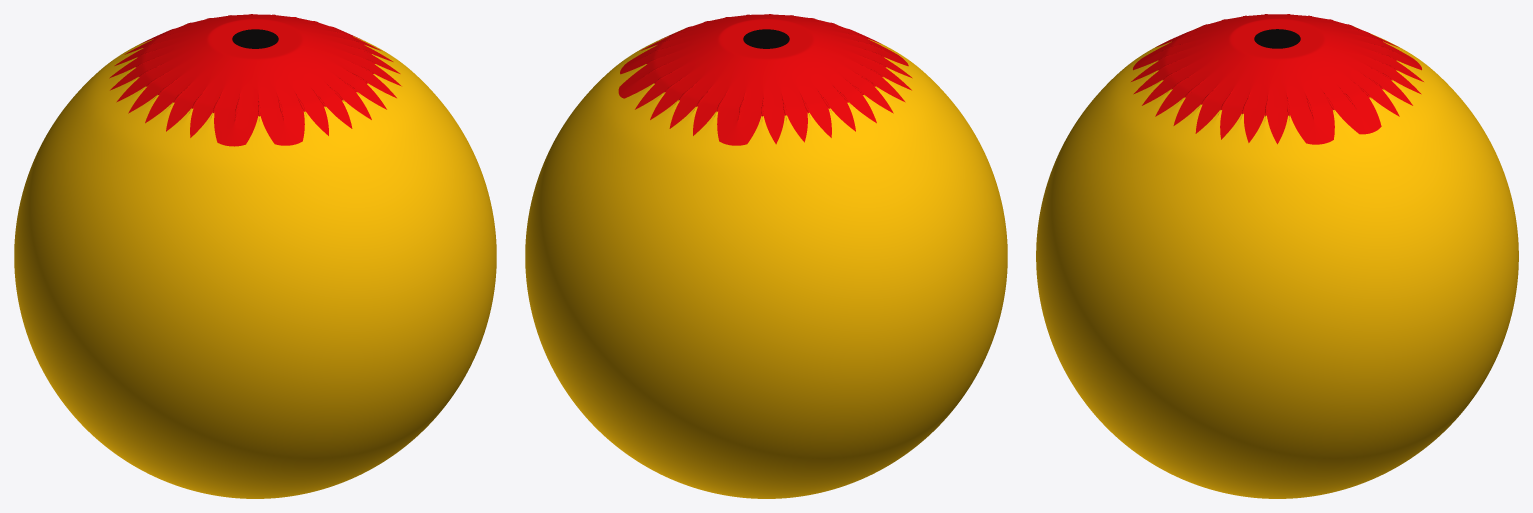
The model's file is TheGreatEye1.fbx.
3 renders of one model, left to right at view 1: azimuth 30°, elevation 25°; view 2: azimuth 150°, elevation 25°; view 3: azimuth 270°, elevation 25°, orthographic.
Visible parts, largest first — view 1: Sphere; view 2: Sphere; view 3: Sphere.
Part boxes in pixels (box(x1,y1,x2,y2)): Sphere: box(14, 14, 496, 498); Sphere: box(525, 14, 1007, 498); Sphere: box(1036, 14, 1518, 498).
Bounding box in the file's own units: 197 × 198 × 197.
